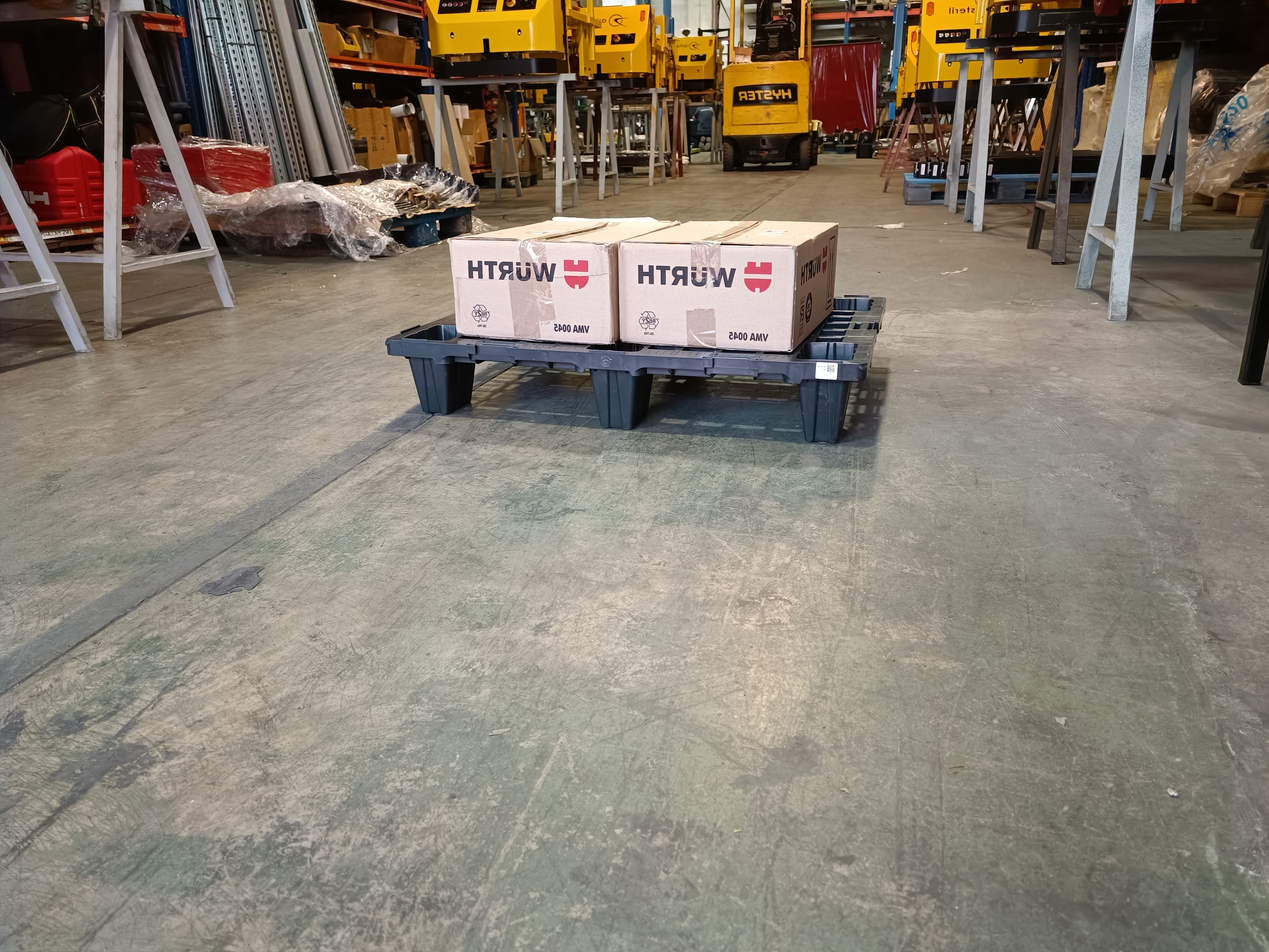block: (400, 353, 476, 416), (584, 368, 647, 439), (798, 387, 850, 457)
front: (384, 337, 863, 452)
hole pallet: (628, 381, 803, 442), (468, 369, 596, 431)
